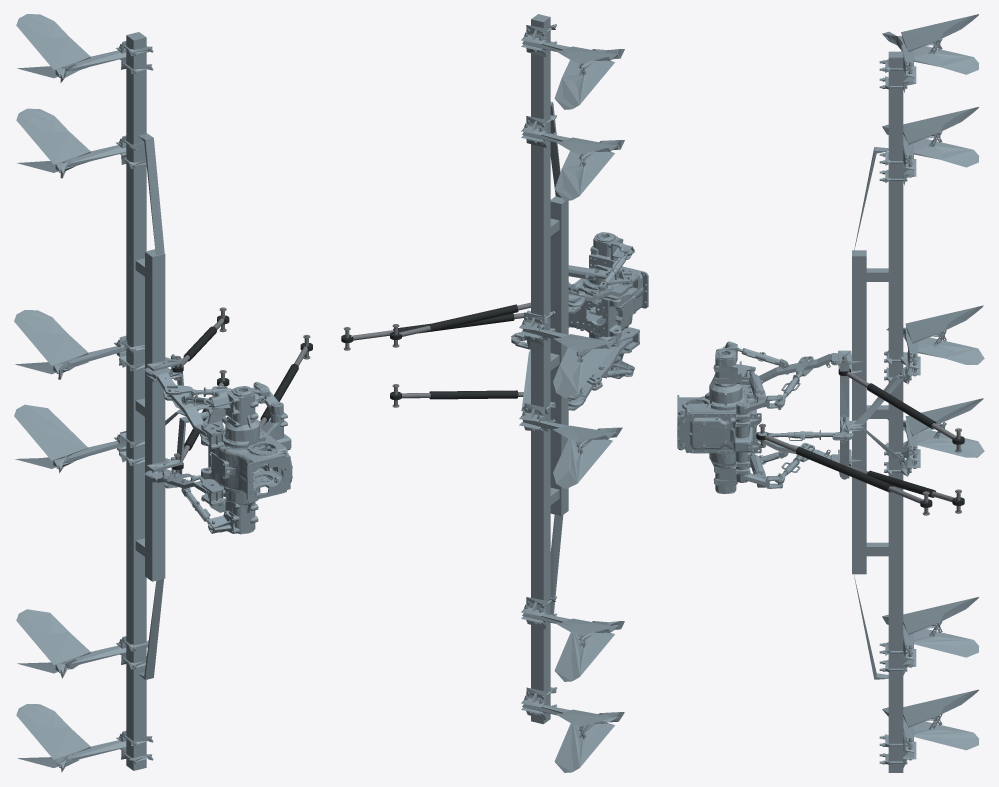
File: implement_groove_maker_visual.obj
3 renders of one model, left to right at view 1: azimuth 30°, elevation 25°; view 2: azimuth 150°, elevation 25°; view 3: azimuth 270°, elevation 25°, orthographic. The views are drawn at different scales.
Parts seen in each view (by area): view 1: solid_0, solid_4, solid_335, solid_358, solid_98, solid_190, solid_297, solid_144, solid_247, solid_52, solid_6, solid_5 (+9 smaller); view 2: solid_0, solid_4, solid_335, solid_189, solid_296, solid_143, solid_246, solid_97, solid_51, solid_358, solid_5, hitch_lower_left_sleeve (+9 smaller); view 3: solid_0, solid_4, solid_327, solid_358, solid_97, solid_51, solid_190, solid_297, solid_296, solid_144, solid_189, solid_143 (+12 smaller).
Boxes of the visible parts, x1,y1,x2,y2 form: solid_0: (126, 32, 146, 770); solid_4: (145, 249, 165, 581); solid_335: (201, 433, 290, 501); solid_358: (223, 389, 265, 533); solid_98: (16, 704, 90, 759); solid_190: (16, 14, 90, 69); solid_297: (14, 310, 88, 365); solid_144: (16, 108, 90, 164); solid_247: (14, 404, 88, 460); solid_52: (16, 609, 90, 664); solid_6: (138, 133, 164, 254); solid_5: (138, 579, 163, 679); solid_0: (531, 14, 550, 724); solid_4: (550, 196, 568, 515); solid_335: (568, 266, 648, 338); solid_189: (554, 60, 614, 109); solid_296: (553, 347, 612, 398); solid_143: (554, 151, 614, 200); solid_246: (553, 439, 612, 489); solid_97: (554, 722, 614, 772); solid_51: (554, 632, 614, 681); solid_358: (583, 235, 624, 370); solid_5: (550, 514, 563, 614); hitch_lower_left_sleeve: (429, 304, 518, 331); solid_0: (888, 51, 903, 772); solid_4: (852, 250, 866, 574); solid_327: (677, 412, 761, 474); solid_358: (705, 350, 747, 492); solid_97: (914, 714, 979, 750); solid_51: (914, 621, 979, 657); solid_190: (901, 14, 978, 52); solid_297: (905, 305, 983, 343); solid_296: (917, 330, 984, 364); solid_144: (903, 107, 978, 144); solid_189: (914, 39, 979, 74); solid_143: (914, 131, 979, 167).
Size of the model in its own units: 2.1 by 5.51 by 2.1.
